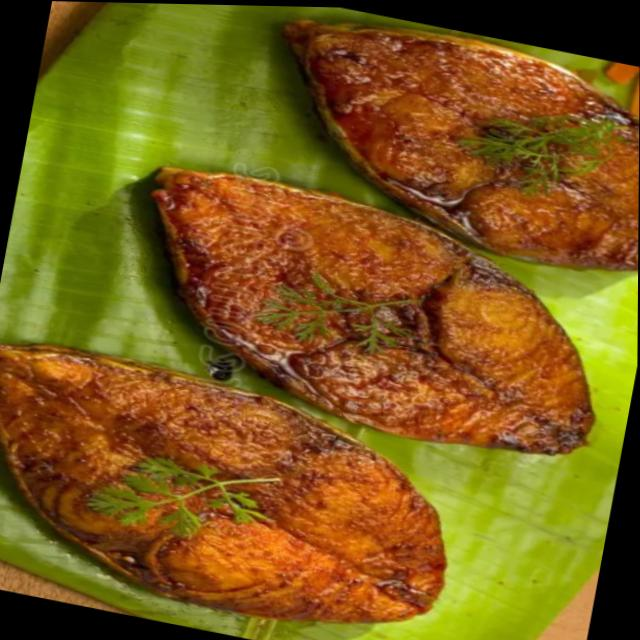FISH FRY: (153, 20, 639, 454), (0, 344, 446, 622)
